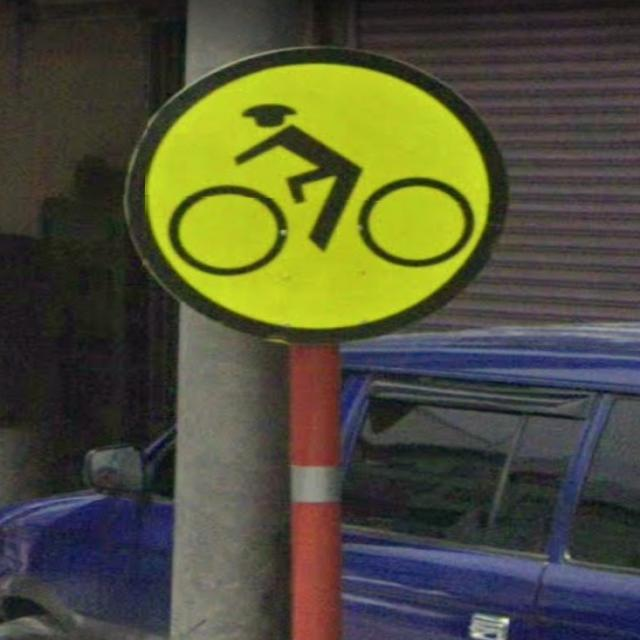bike lane: (125, 46, 504, 343)
